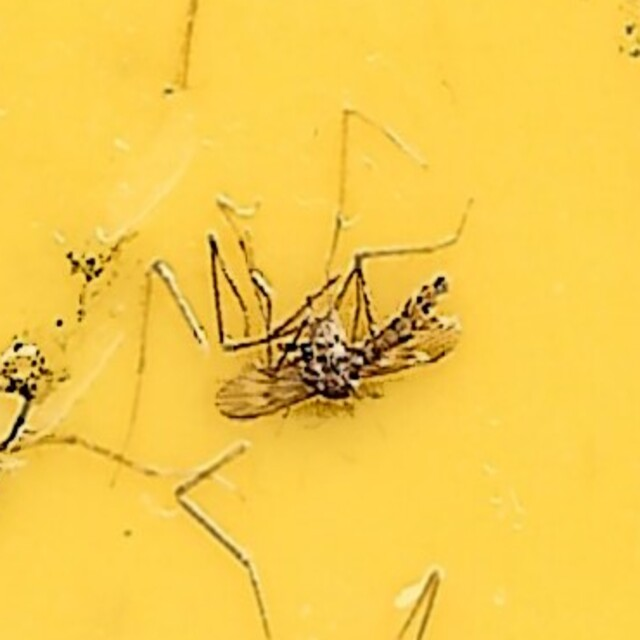Nematocera: (173, 213, 467, 427)
